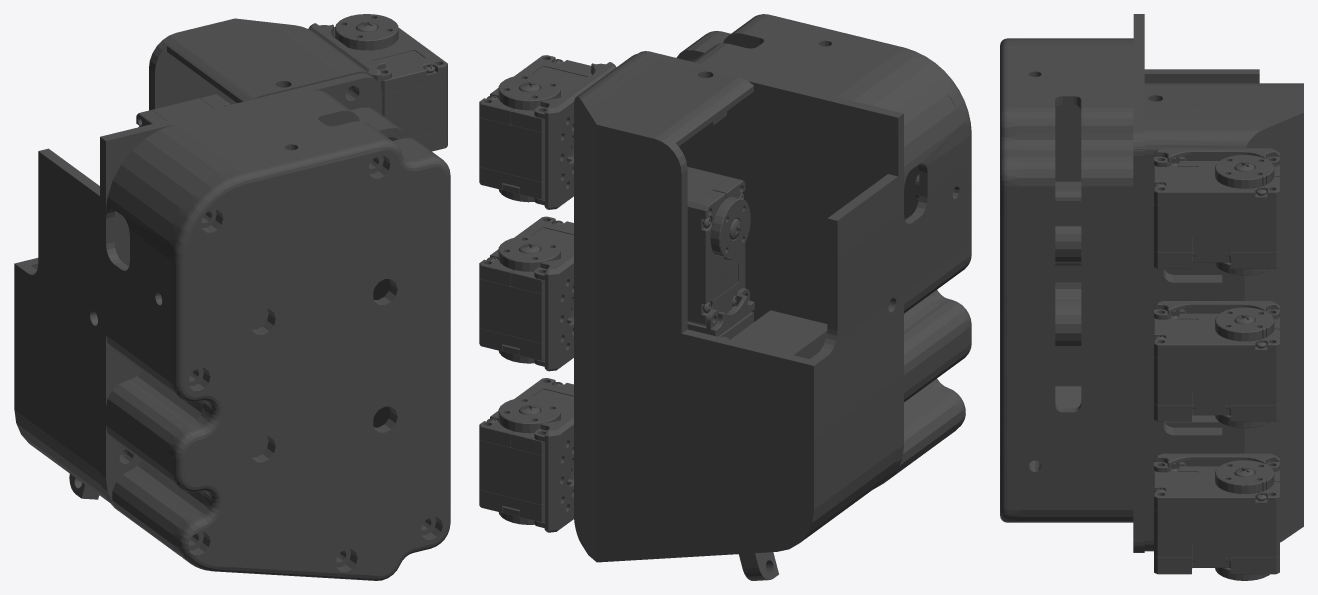
File: palm_pack.dae
3 views of the same model, side by side, from view 1: azimuth 30°, elevation 25°; view 2: azimuth 150°, elevation 25°; view 3: azimuth 270°, elevation 25° (orthographic). The views are drawn at different scales.
Parts seen in each view (by area): view 1: node; view 2: node; view 3: node.
Part boxes in pixels (box(x1,y1,x2,y2)): node: box(14, 14, 450, 580); node: box(479, 14, 971, 580); node: box(1000, 14, 1303, 580).
Bounding box in the file's own units: 0.103 × 0.1257 × 0.082.
1 material, 1 textured.
